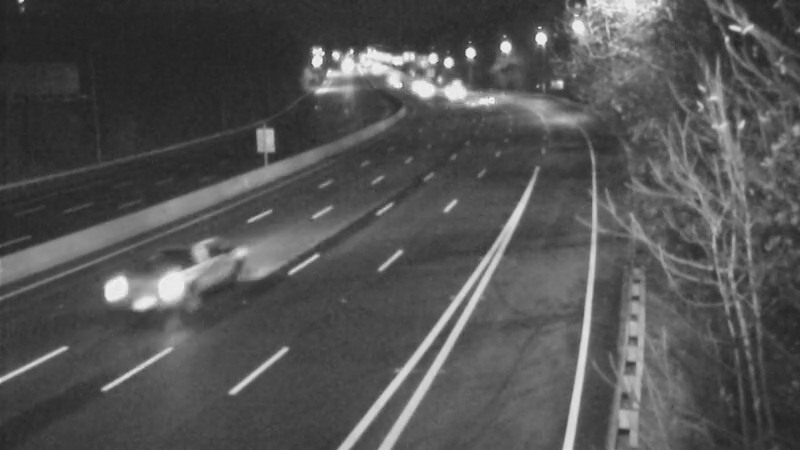vehicle: (99, 244, 179, 324), (390, 62, 440, 112), (429, 66, 479, 116), (403, 68, 453, 118), (450, 76, 500, 126)
